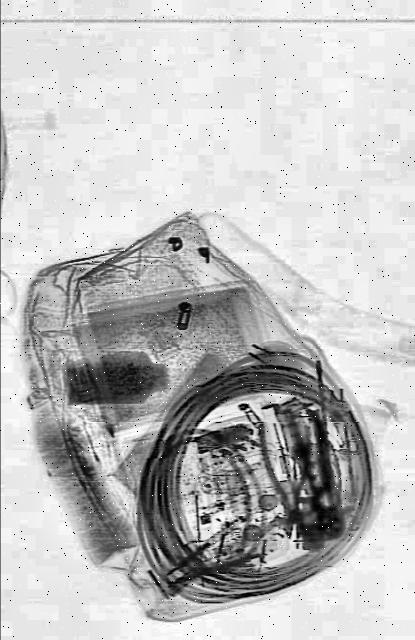Pliers: (260, 416, 318, 540)
